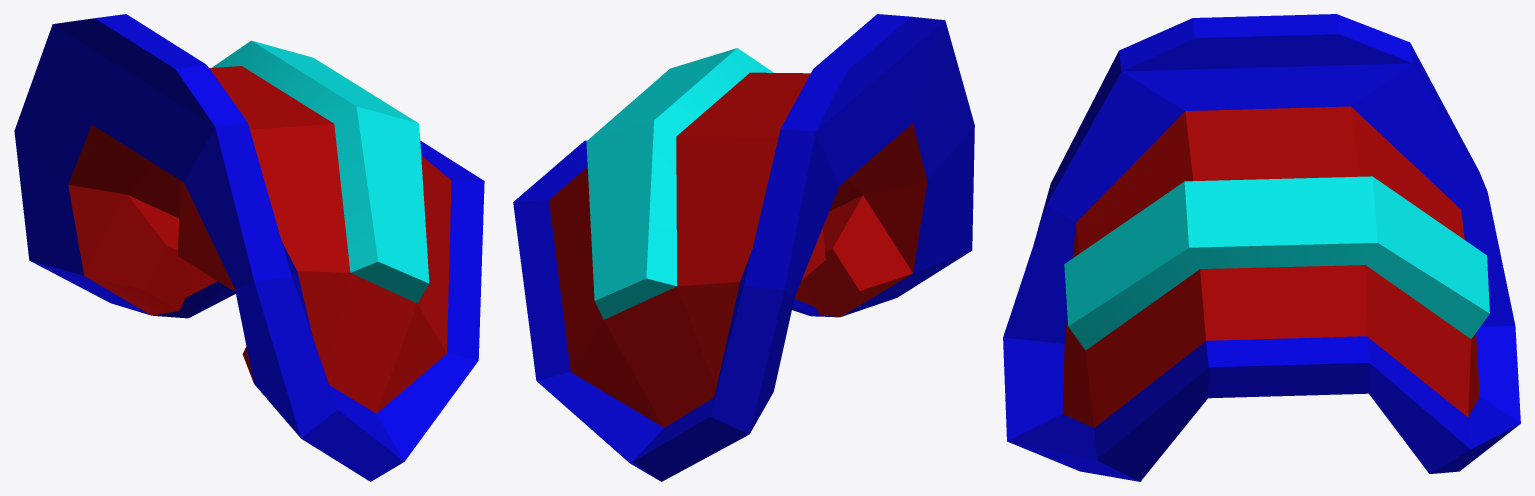
The model's file is Chr_ShoulderAttachLeft_Static_11.fbx.
3 renders of one model, left to right at view 1: azimuth 30°, elevation 25°; view 2: azimuth 150°, elevation 25°; view 3: azimuth 270°, elevation 25°, orthographic.
Parts seen in each view (by area): view 1: Chr_ShoulderAttachLeft_11; view 2: Chr_ShoulderAttachLeft_11; view 3: Chr_ShoulderAttachLeft_11.
Boxes of the visible parts, x1,y1,x2,y2 form: Chr_ShoulderAttachLeft_11: [14, 14, 484, 481]; Chr_ShoulderAttachLeft_11: [513, 14, 974, 481]; Chr_ShoulderAttachLeft_11: [1003, 14, 1520, 481].
Size of the model in its own units: 25.88 by 28.29 by 34.74.
